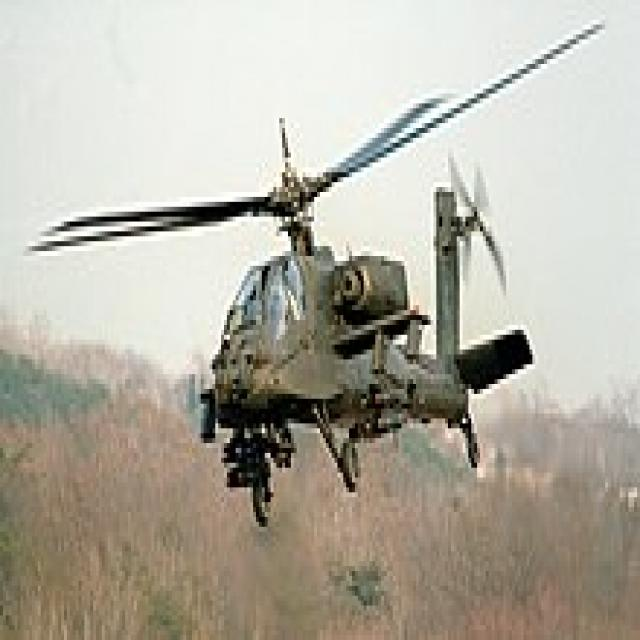Apache: (26, 24, 608, 526)
